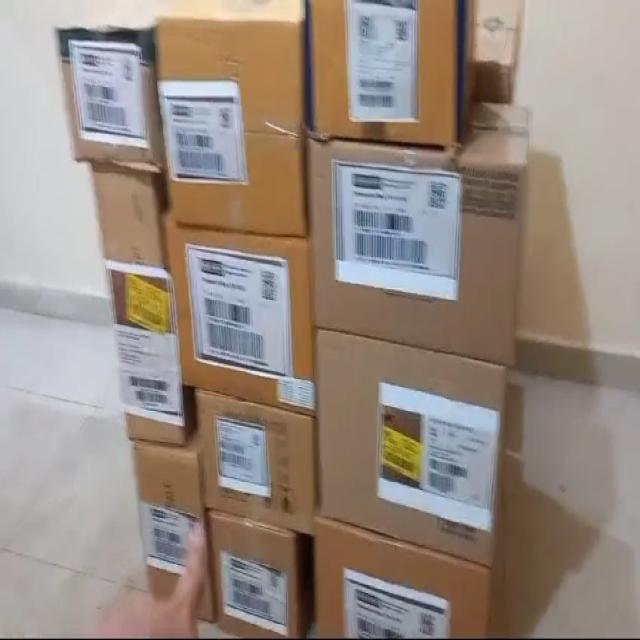BoxFace: (304, 138, 530, 375), (311, 322, 513, 574), (148, 12, 320, 241), (162, 208, 321, 416), (93, 146, 191, 453), (304, 0, 468, 159), (49, 3, 171, 173), (192, 382, 318, 538), (201, 504, 314, 640)
